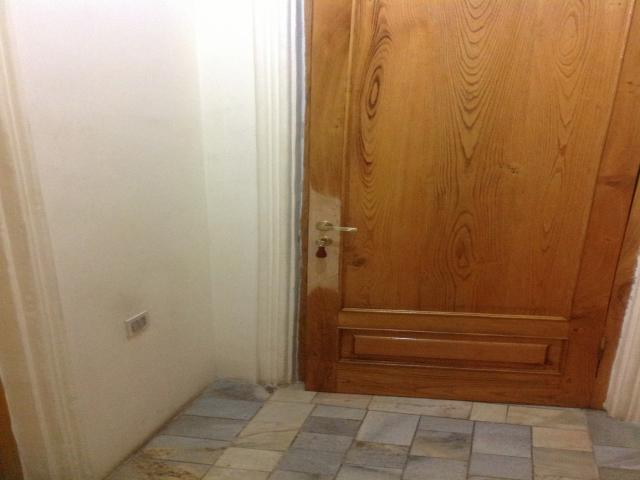Door-handle: (314, 220, 358, 234)
